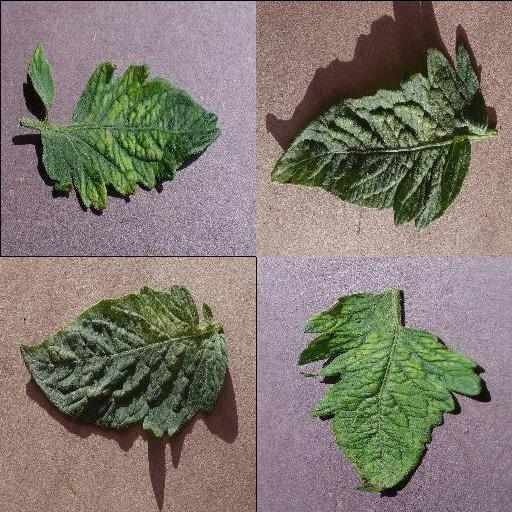Mosaic Virus: (297, 290, 481, 494), (39, 57, 221, 209)
Spider Mites: (271, 42, 489, 228), (20, 283, 228, 437)
